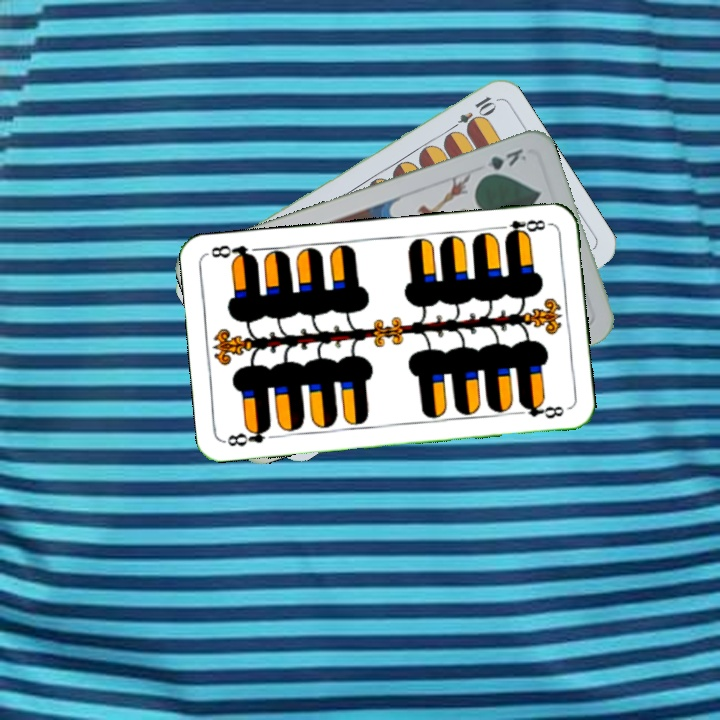E10: (444, 92, 498, 135)
E8: (493, 215, 552, 241), (221, 422, 273, 449)
GK: (476, 144, 529, 181)
